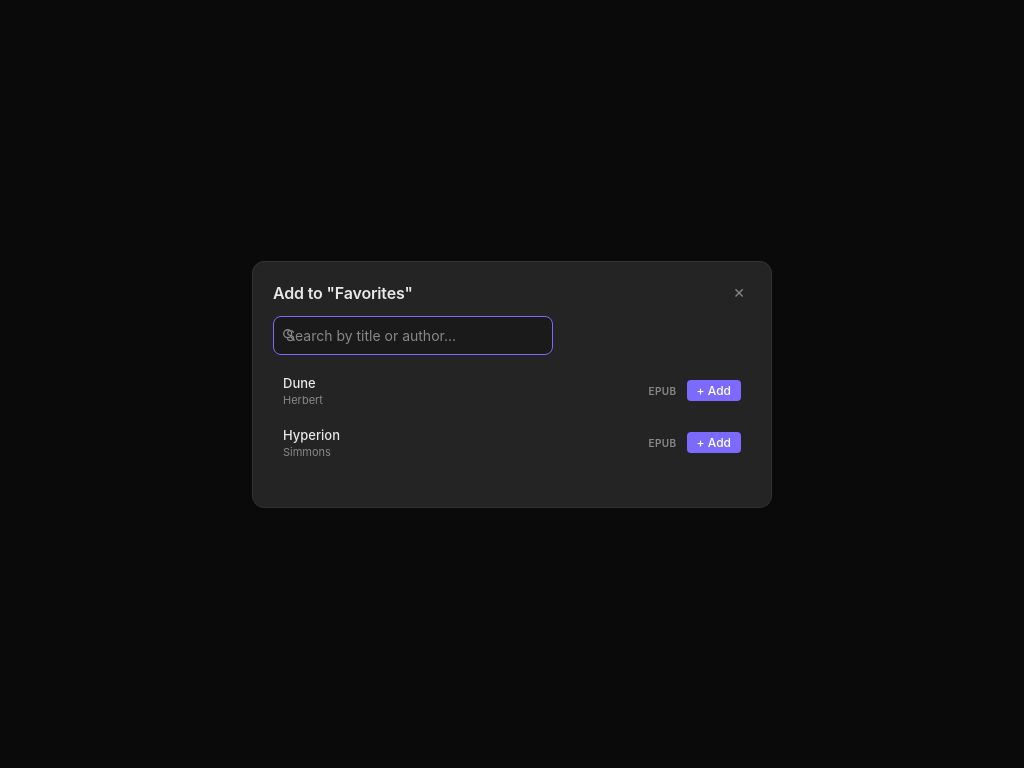
Test: AddToCollectionModal › filters by title/author as you type
Expected: the text "Dune" is shown, 283,374 -> 316,390
In the field with placeholder "Search by title or author…": (413, 335) 273,316 -> 553,354, type "simm"
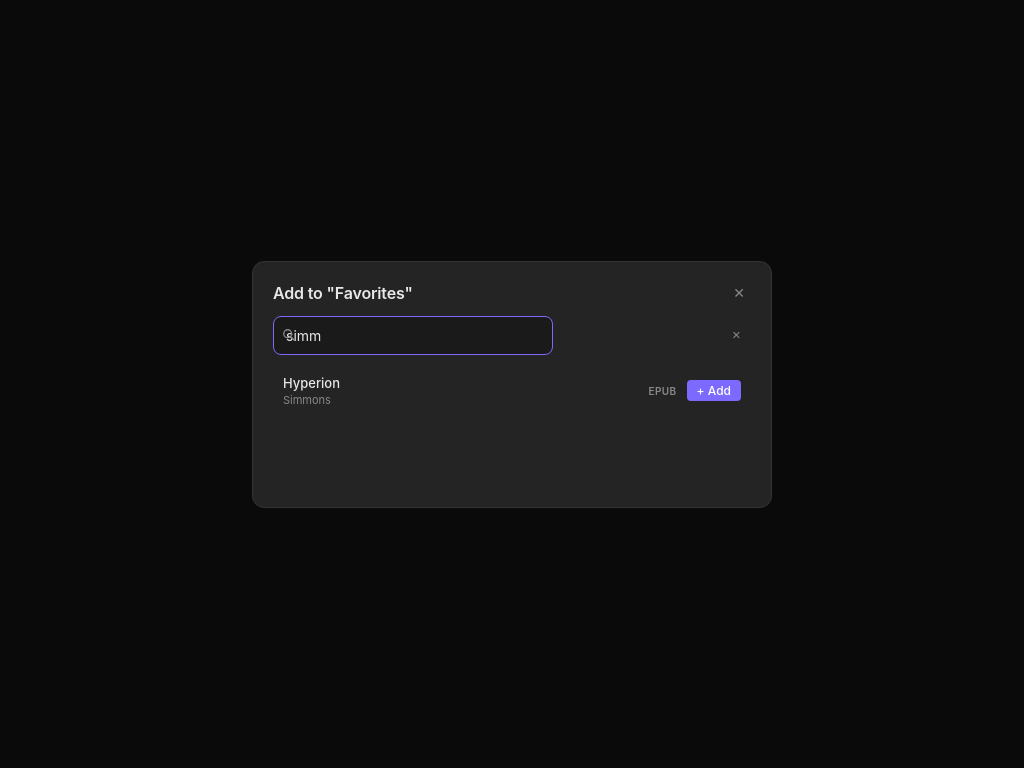
Expected: the text "Hyperion" is shown, 283,374 -> 340,390
Result: the text "Dune" is gone
